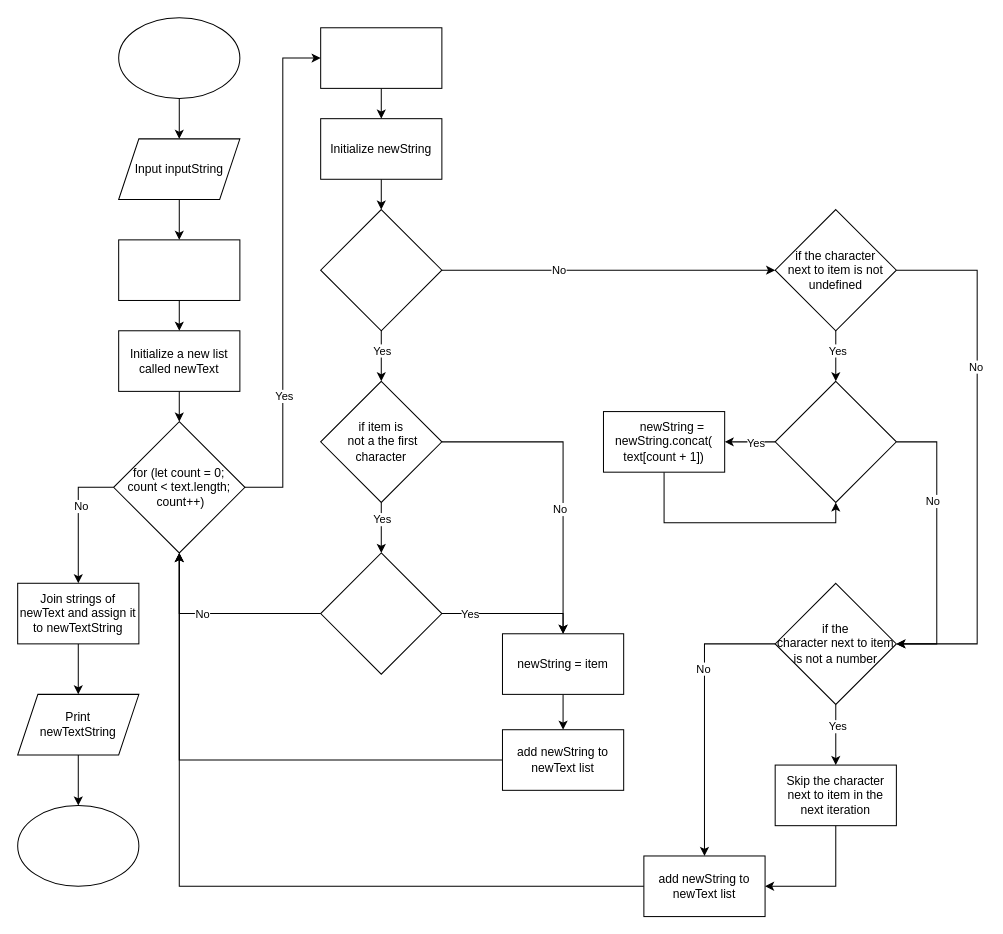
The diagram is 1003 pixels wide and 934 high, and some of its shapes have lost their labels. Each missing label, with the centre of its shape:
for ( let count2 = 0; count2 < Number(item); count2++): the point at 835,441
if item is not a number: the point at 381,270
if the character next the current one is not a number: the point at 381,613
item = text[count]: the point at 381,57
Split inputString into a list of characters called text: the point at 179,269
Start: the point at 179,57
Stop: the point at 78,845
